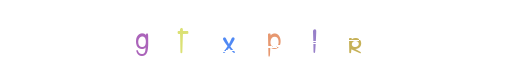G: (146, 0, 226, 80)
L: (220, 0, 300, 80)
P: (188, 0, 268, 80)
R: (274, 0, 354, 80)
T: (171, 0, 251, 80)
X: (188, 0, 268, 80)
